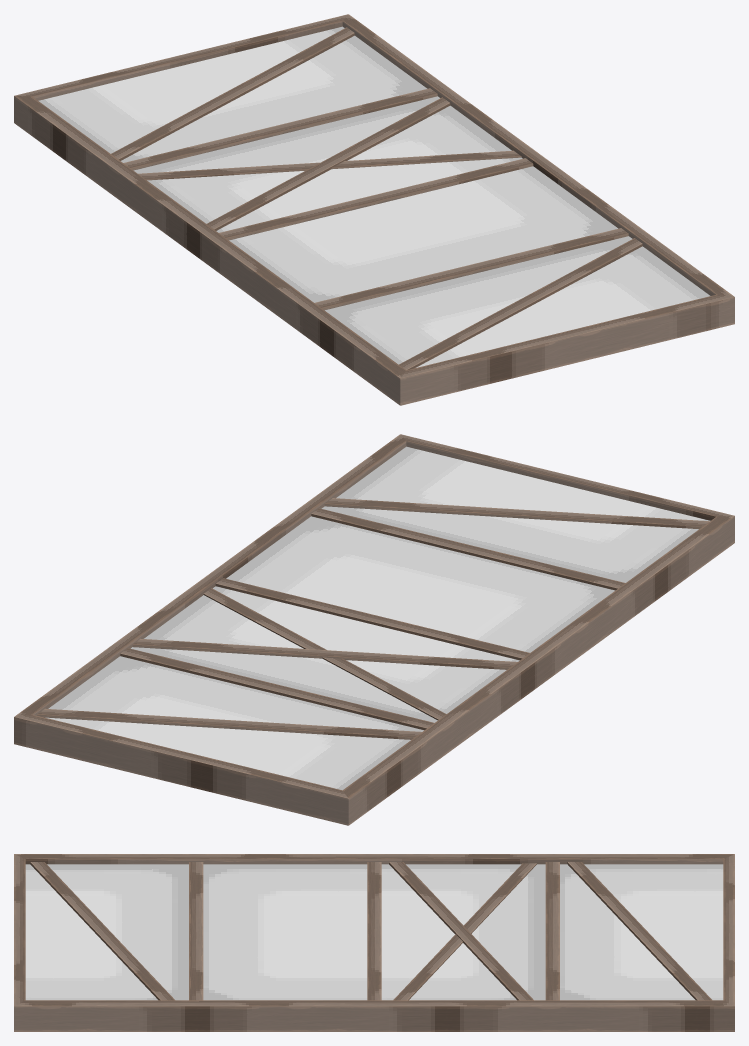
Rendered from SM_WoodenPlanks_03.fbx.
The picture shows the model from 3 angles, top to bottom: view 1: azimuth 30°, elevation 25°; view 2: azimuth 150°, elevation 25°; view 3: azimuth 270°, elevation 25°; orthographic projection. The views are drawn at different scales.
Visible parts, largest first — view 1: SM_WoodenPlanks_03; view 2: SM_WoodenPlanks_03; view 3: SM_WoodenPlanks_03.
Part boxes in pixels (<box>): SM_WoodenPlanks_03: <box>14,14,734,405</box>; SM_WoodenPlanks_03: <box>14,434,734,825</box>; SM_WoodenPlanks_03: <box>14,854,734,1031</box>.
Size of the model in its own units: 500 by 1000 by 40.77.
